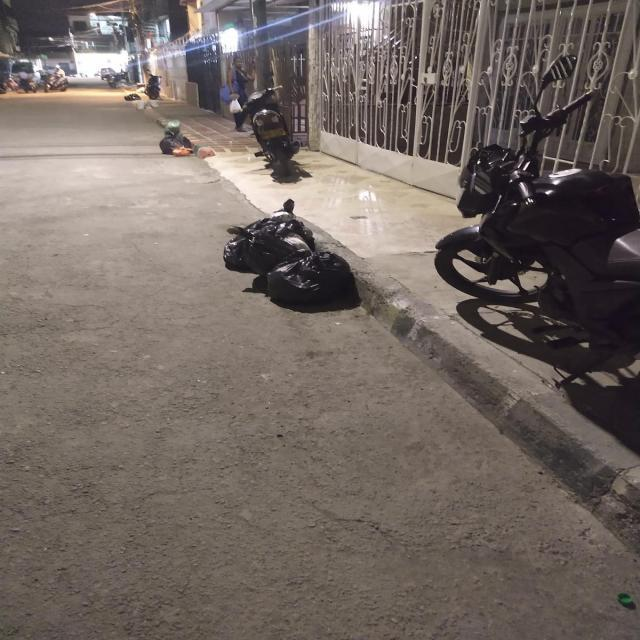Trashbag: (266, 248, 371, 314), (204, 205, 318, 246)
